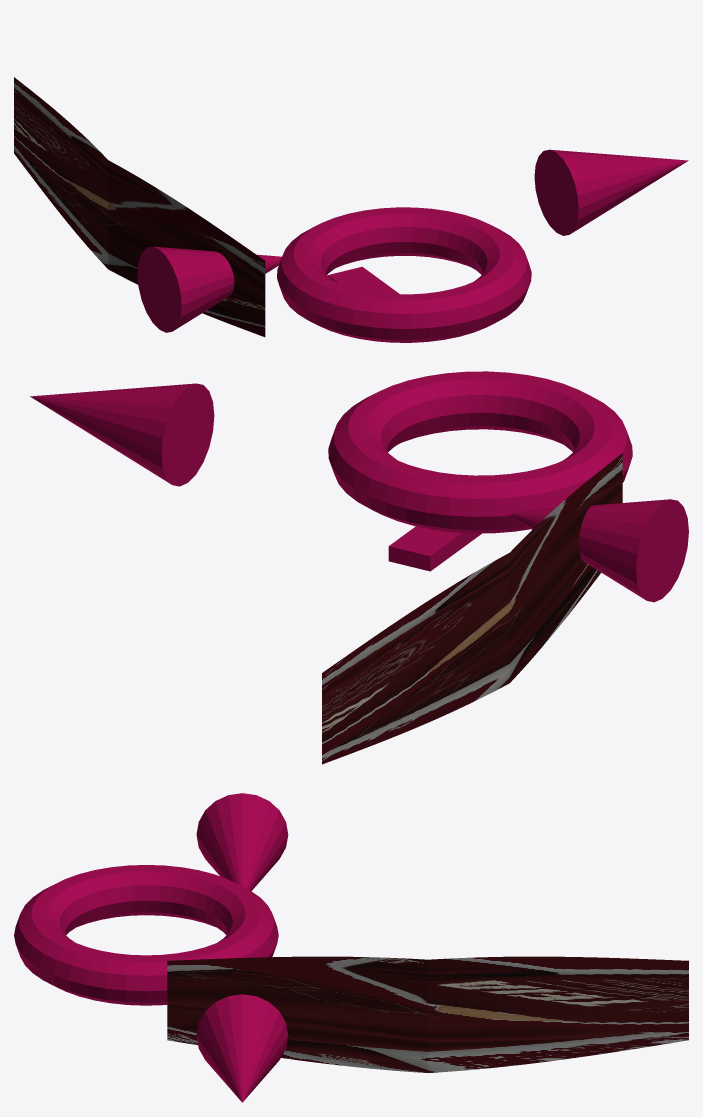
File: teia_2026_camisa_3d.glb
3 renders of one model, top to bottom at view 1: azimuth 30°, elevation 25°; view 2: azimuth 150°, elevation 25°; view 3: azimuth 270°, elevation 25°, orthographic. The views are drawn at different scales.
Parts seen in each view (by area): view 1: world; view 2: world; view 3: world.
Part boxes in pixels (x1,y1,x2,y2): world: (14,77,688,342); world: (30,371,688,764); world: (14,793,688,1102).
Size of the model in its own units: 1.52 by 0.34 by 1.62.
2 materials, 1 textured.
